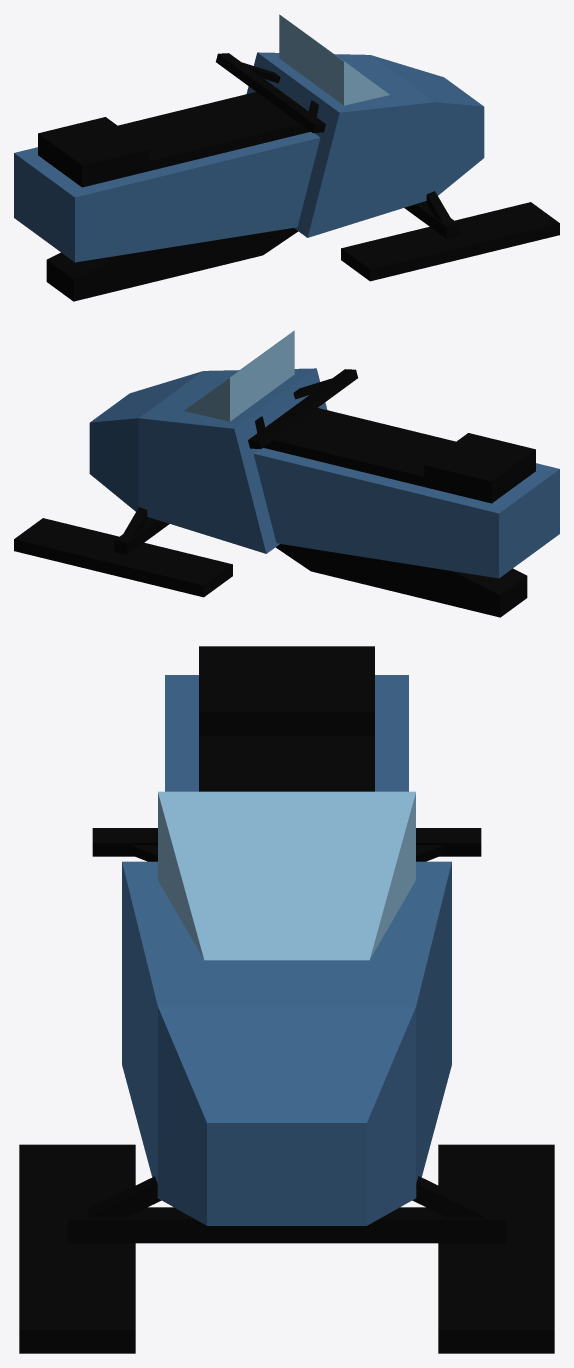
The model's file is Snowmobile_02.fbx.
3 renders of one model, top to bottom at view 1: azimuth 30°, elevation 25°; view 2: azimuth 150°, elevation 25°; view 3: azimuth 270°, elevation 25°, orthographic. The views are drawn at different scales.
Parts seen in each view (by area): view 1: Snowmobile_02; view 2: Snowmobile_02; view 3: Snowmobile_02.
Part boxes in pixels (x1=…): Snowmobile_02: x1=14, y1=14, x2=559, y2=301; Snowmobile_02: x1=14, y1=330, x2=559, y2=617; Snowmobile_02: x1=19, y1=646, x2=554, y2=1353.
Size of the model in its own units: 0.3526 by 0.1445 by 0.1821.
